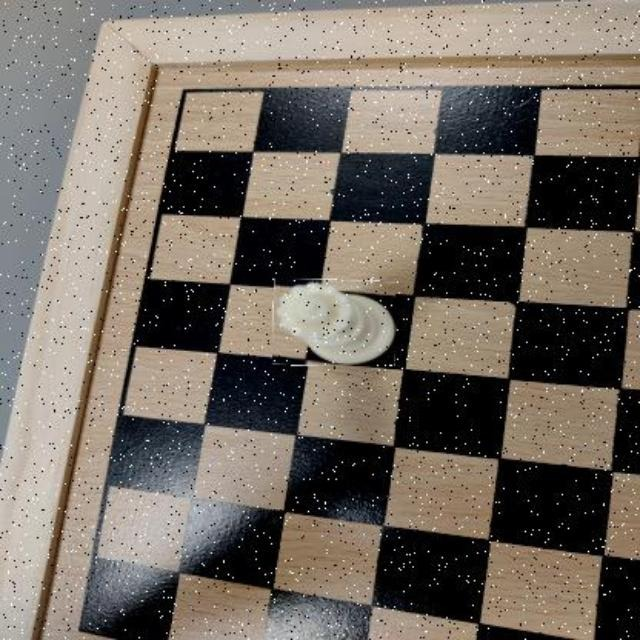white-queen: (273, 279, 396, 366)
